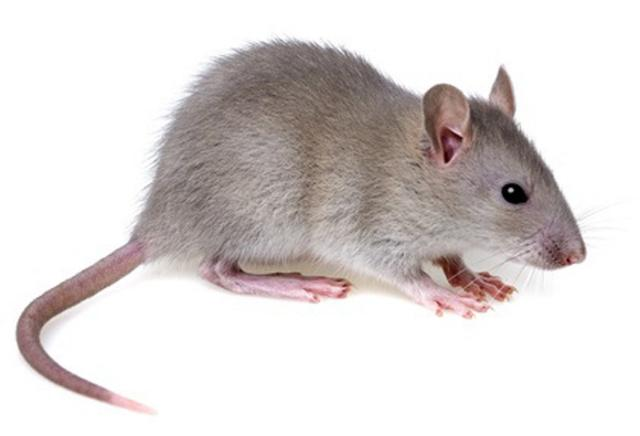rat: (9, 26, 599, 426)
